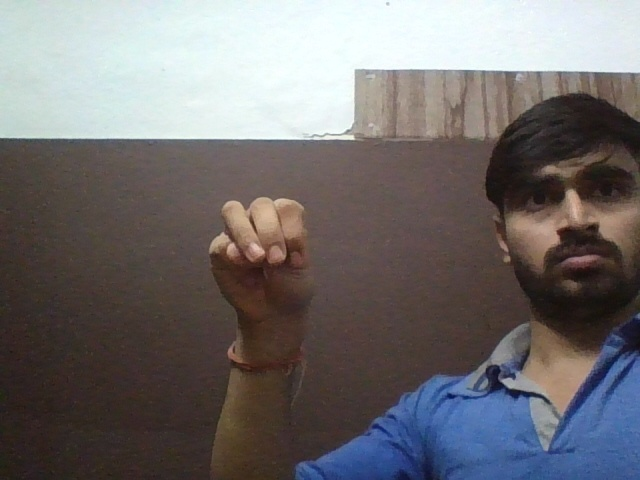M: (196, 188, 340, 332)
